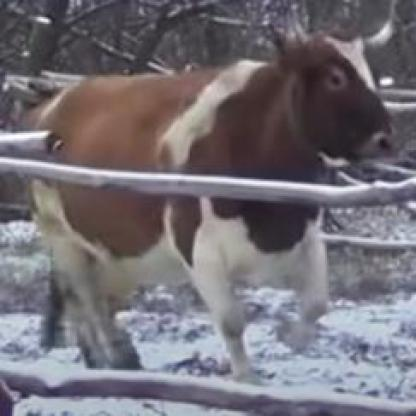cow: (19, 38, 406, 380)
